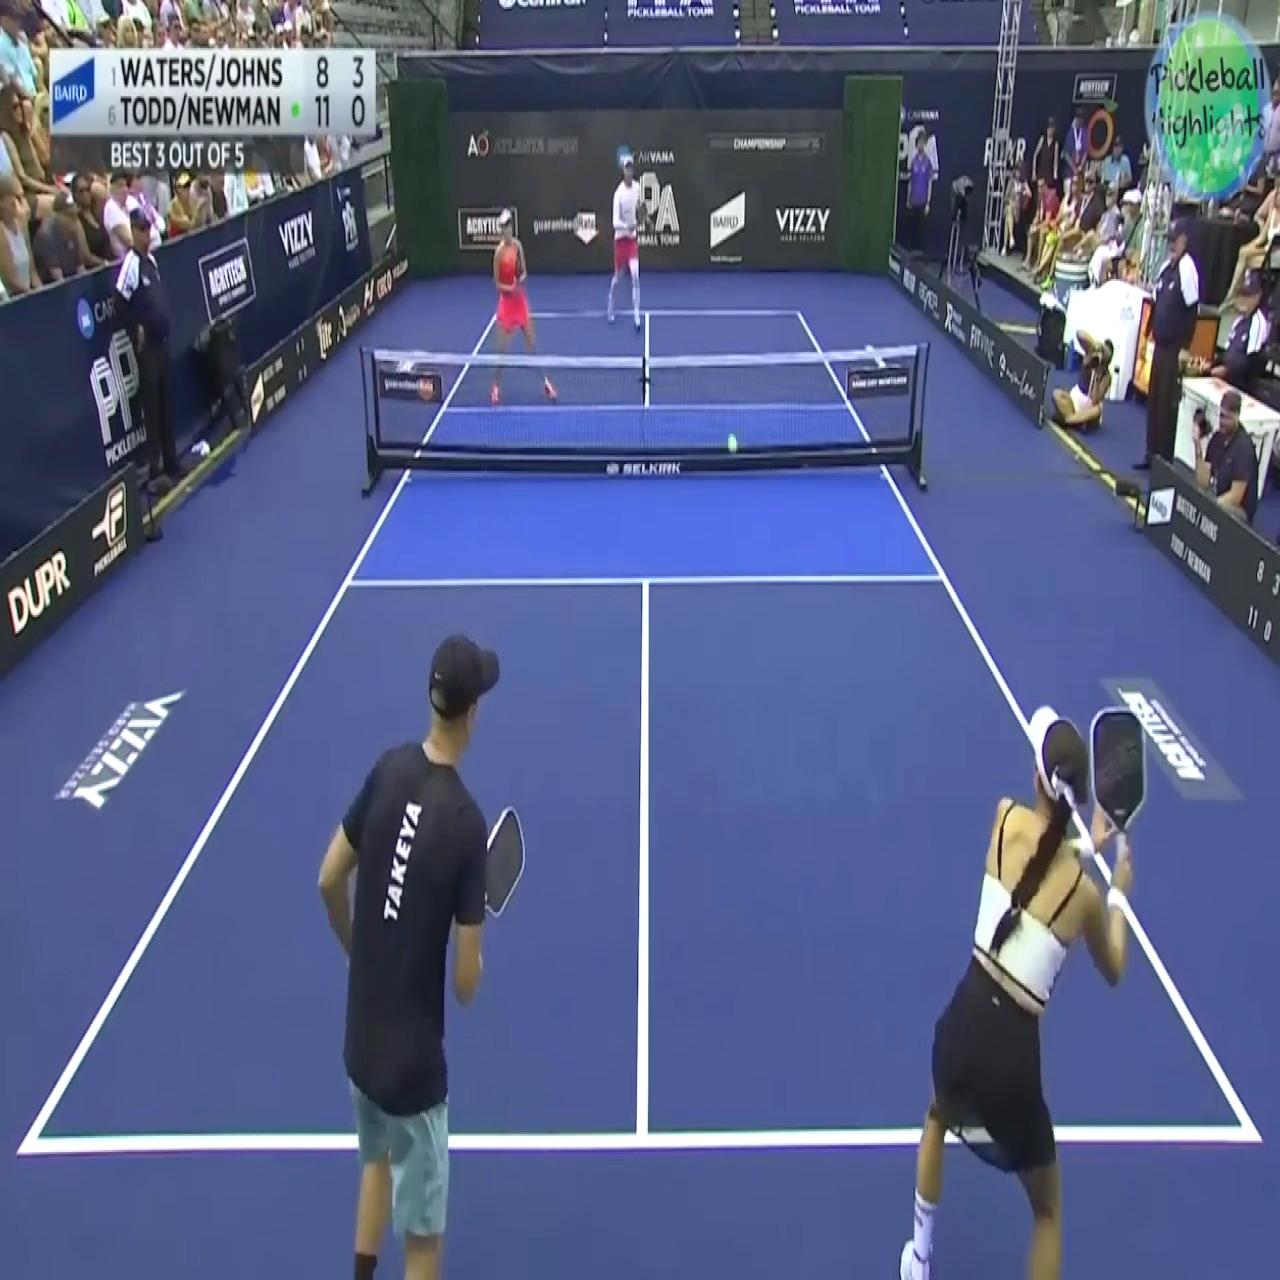Pickleball: (726, 429, 740, 458)
